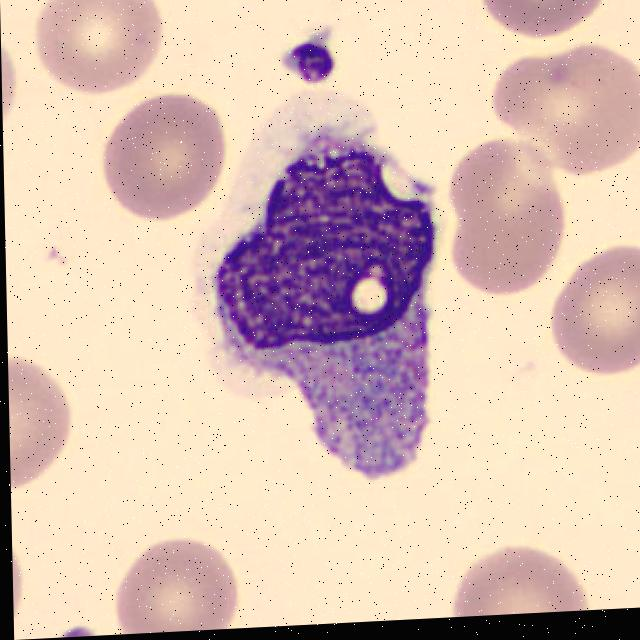monocyte: (185, 112, 451, 499)
platelets: (284, 35, 343, 90)
rbc: (481, 56, 640, 181), (448, 137, 566, 305), (104, 95, 224, 220), (552, 242, 640, 387), (32, 0, 160, 93), (118, 540, 237, 634), (453, 545, 587, 616), (8, 356, 74, 488), (481, 0, 610, 44), (1, 24, 15, 122), (12, 545, 29, 621)
